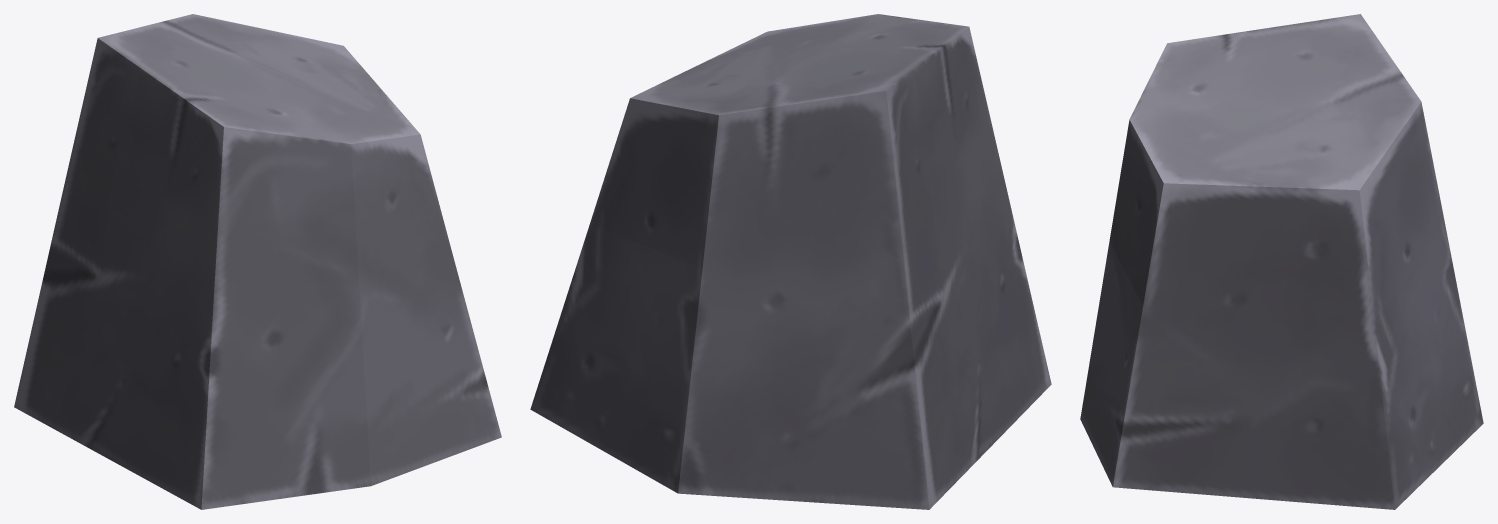
The model's file is Stone2.FBX.
3 renders of one model, left to right at view 1: azimuth 30°, elevation 25°; view 2: azimuth 150°, elevation 25°; view 3: azimuth 270°, elevation 25°, orthographic. The views are drawn at different scales.
Visible parts, largest first — view 1: Object104; view 2: Object104; view 3: Object104.
Boxes of the visible parts, <box> form: Object104: <box>14,14,501,509</box>; Object104: <box>530,14,1051,509</box>; Object104: <box>1080,14,1483,509</box>.
Bounding box in the file's own units: 46.11 × 42.38 × 44.51.
